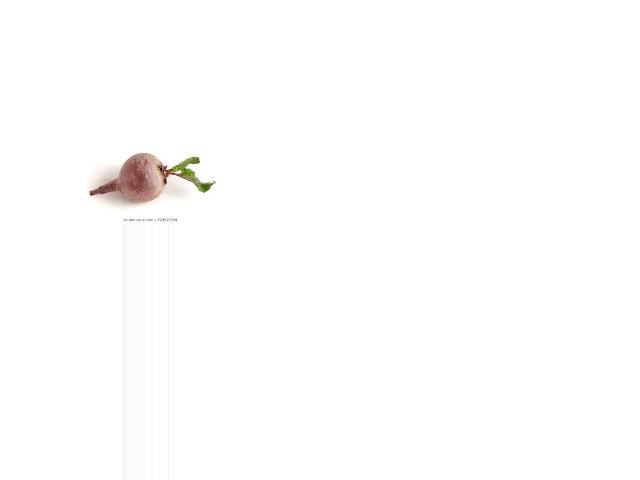beet: (91, 153, 216, 202)
